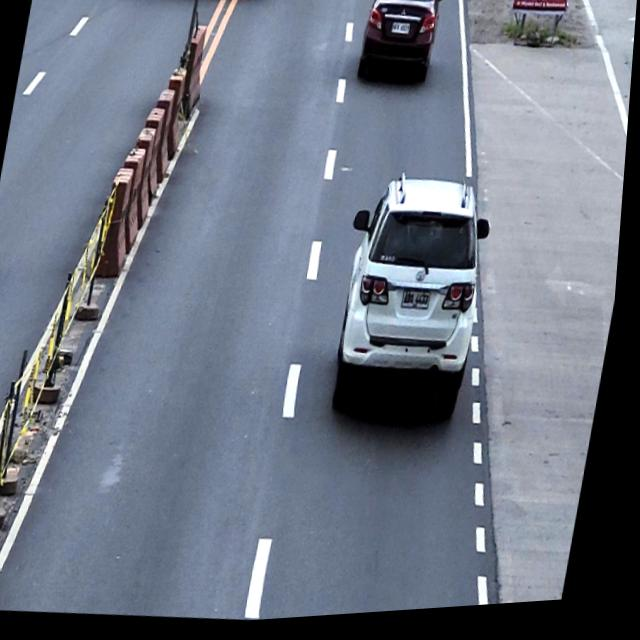Car: (320, 167, 506, 448), (351, 0, 452, 100)
License-Plate: (404, 292, 438, 319), (391, 24, 412, 40)
